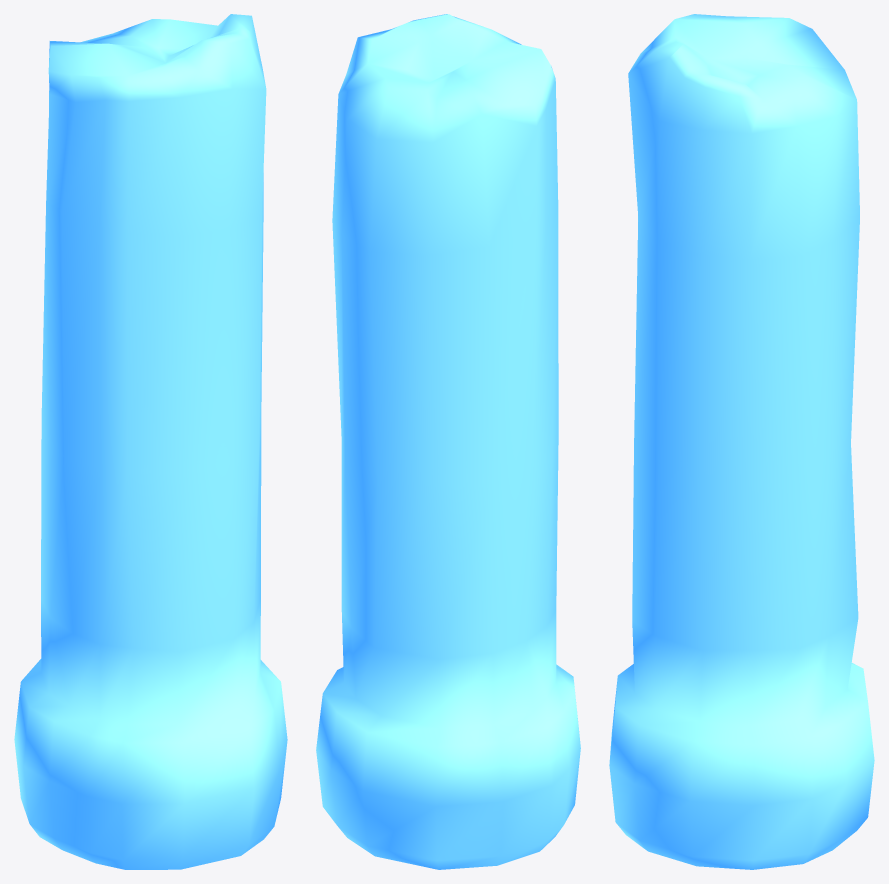
The model's file is Pillar02_003.fbx.
3 renders of one model, left to right at view 1: azimuth 30°, elevation 25°; view 2: azimuth 150°, elevation 25°; view 3: azimuth 270°, elevation 25°, orthographic. The views are drawn at different scales.
Visible parts, largest first — view 1: Pillar02.003; view 2: Pillar02.003; view 3: Pillar02.003.
Boxes of the visible parts, x1,y1,x2,y2 form: Pillar02.003: [14, 14, 287, 869]; Pillar02.003: [316, 14, 580, 869]; Pillar02.003: [609, 14, 874, 869].
Bounding box in the file's own units: 11647 × 37989 × 11579.
